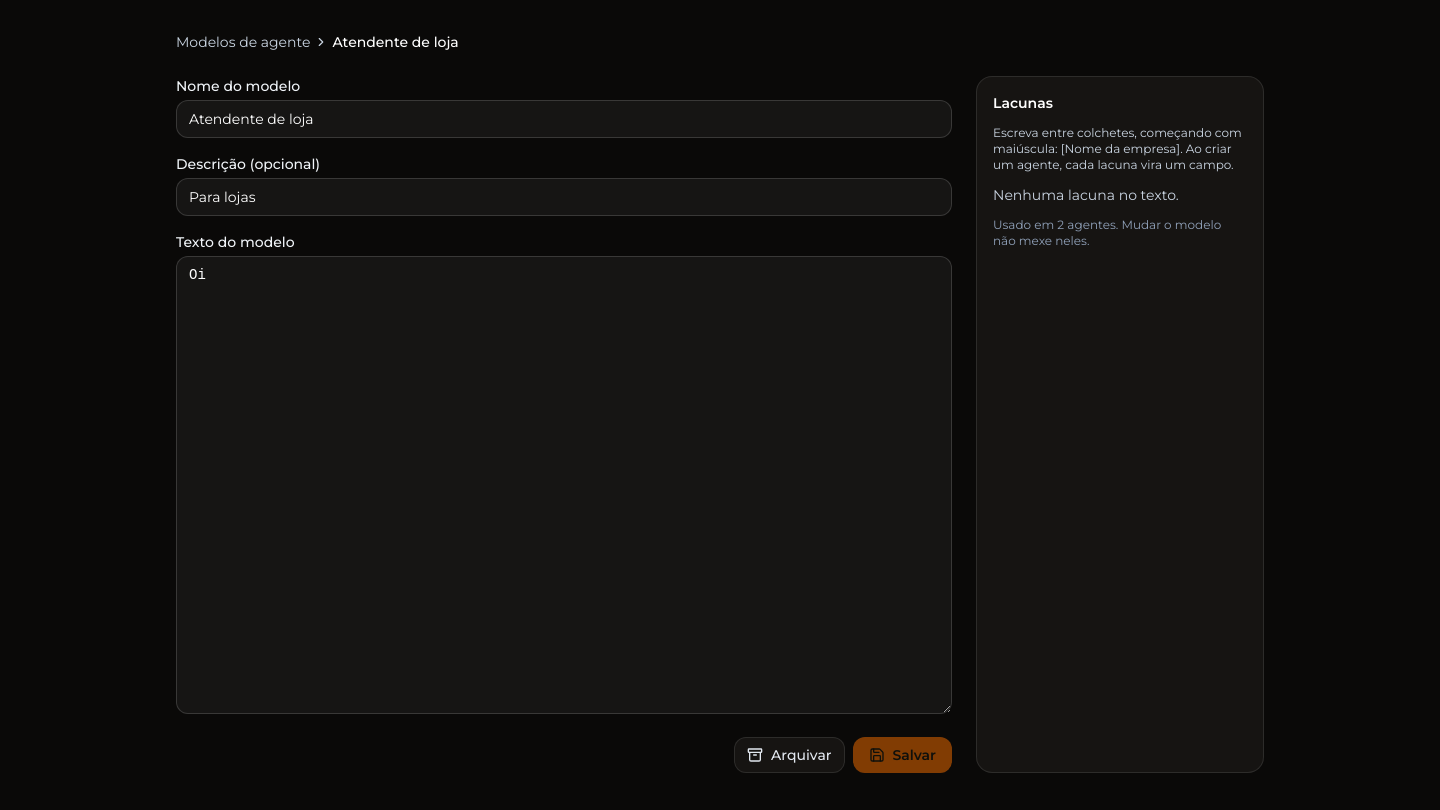
Test: EditorDoModelo › 409 ao salvar e "Descartar o meu": aí sim o texto vira o do servidor
Replace the text in the text box labelled "Texto do modelo" with "O meu". click: (564,485)
box: [176,256,952,714]
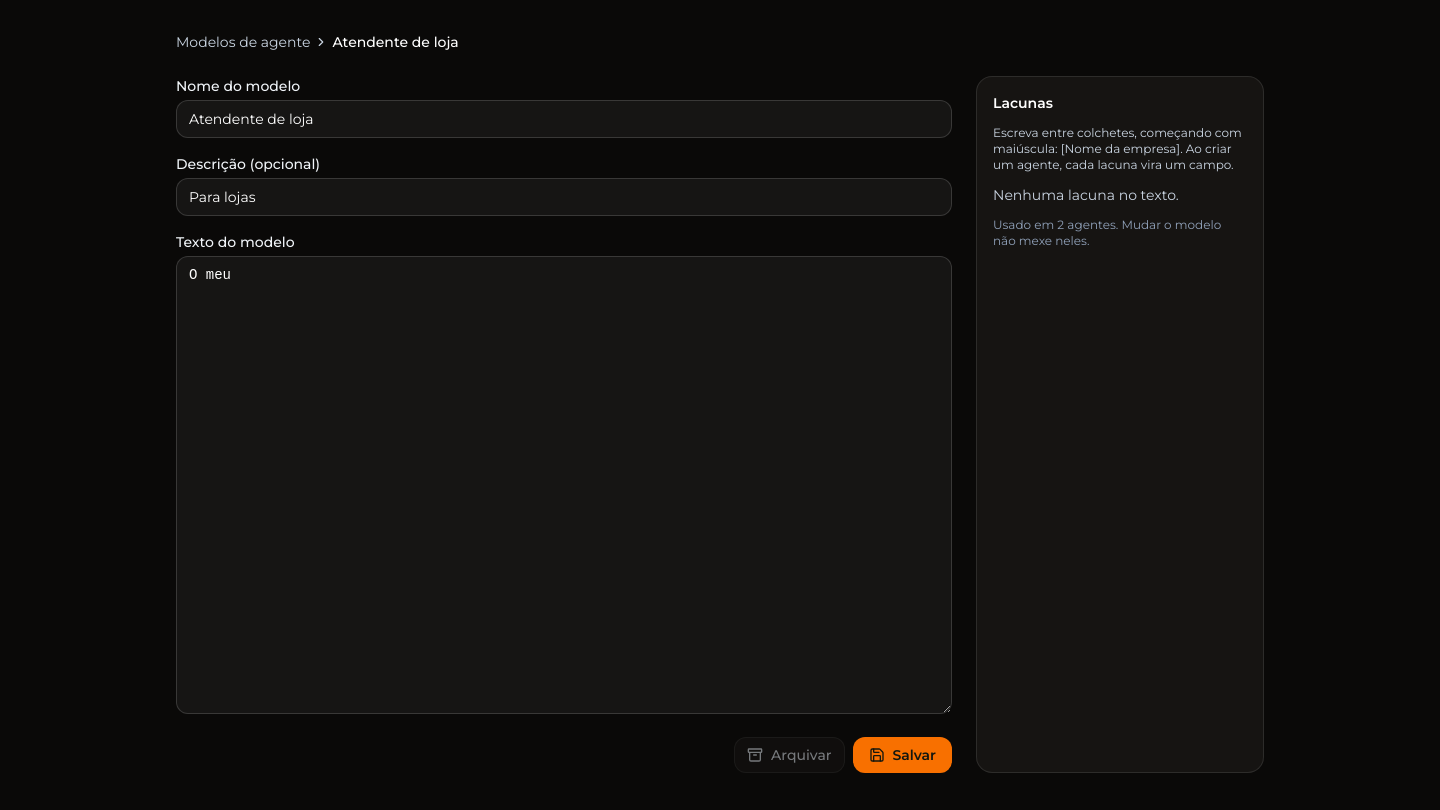
Click the button "Salvar". click: (902,755)
box: [852,737,952,773]
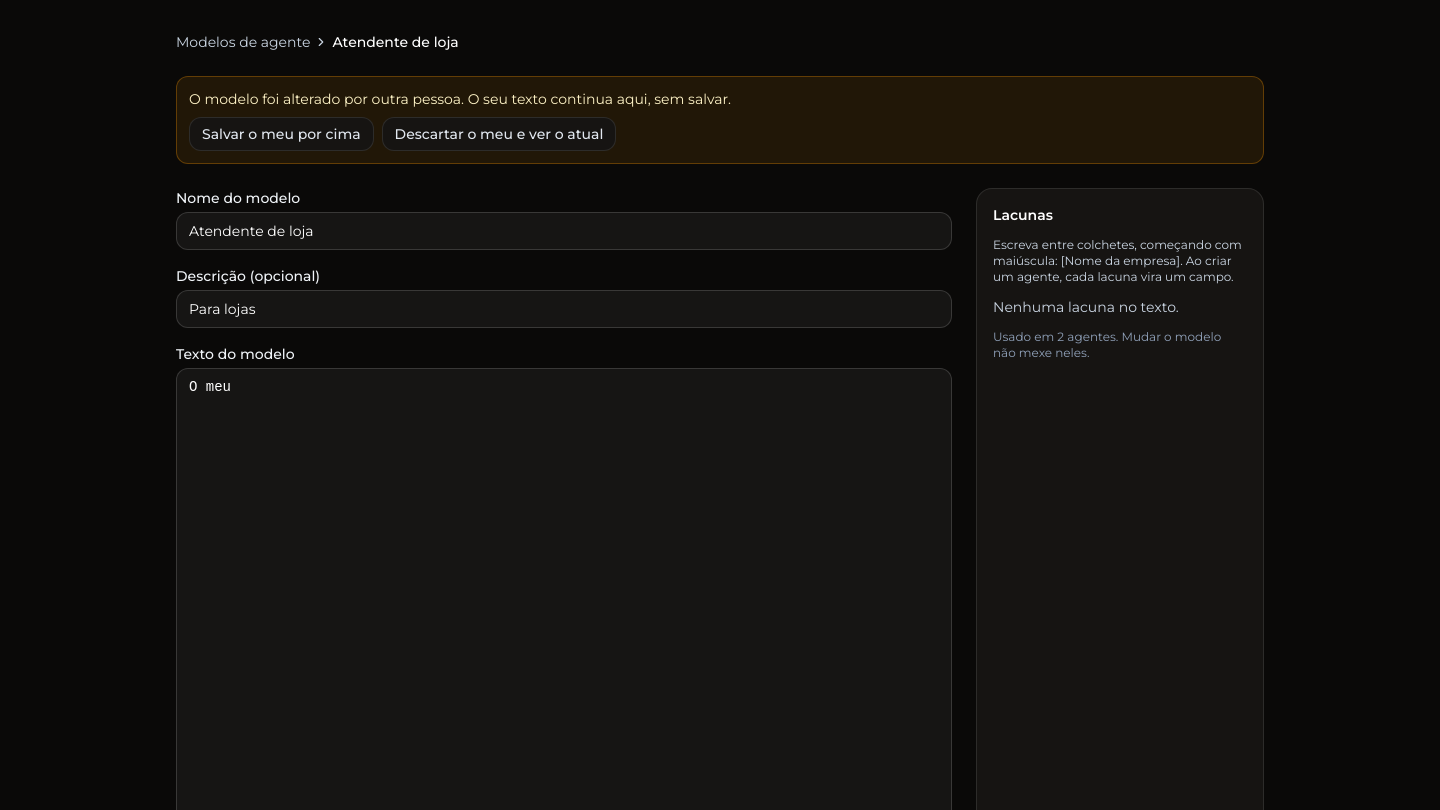
Click the button "Descartar o meu e ver o atual". click: (499,134)
box: [382,117,616,151]
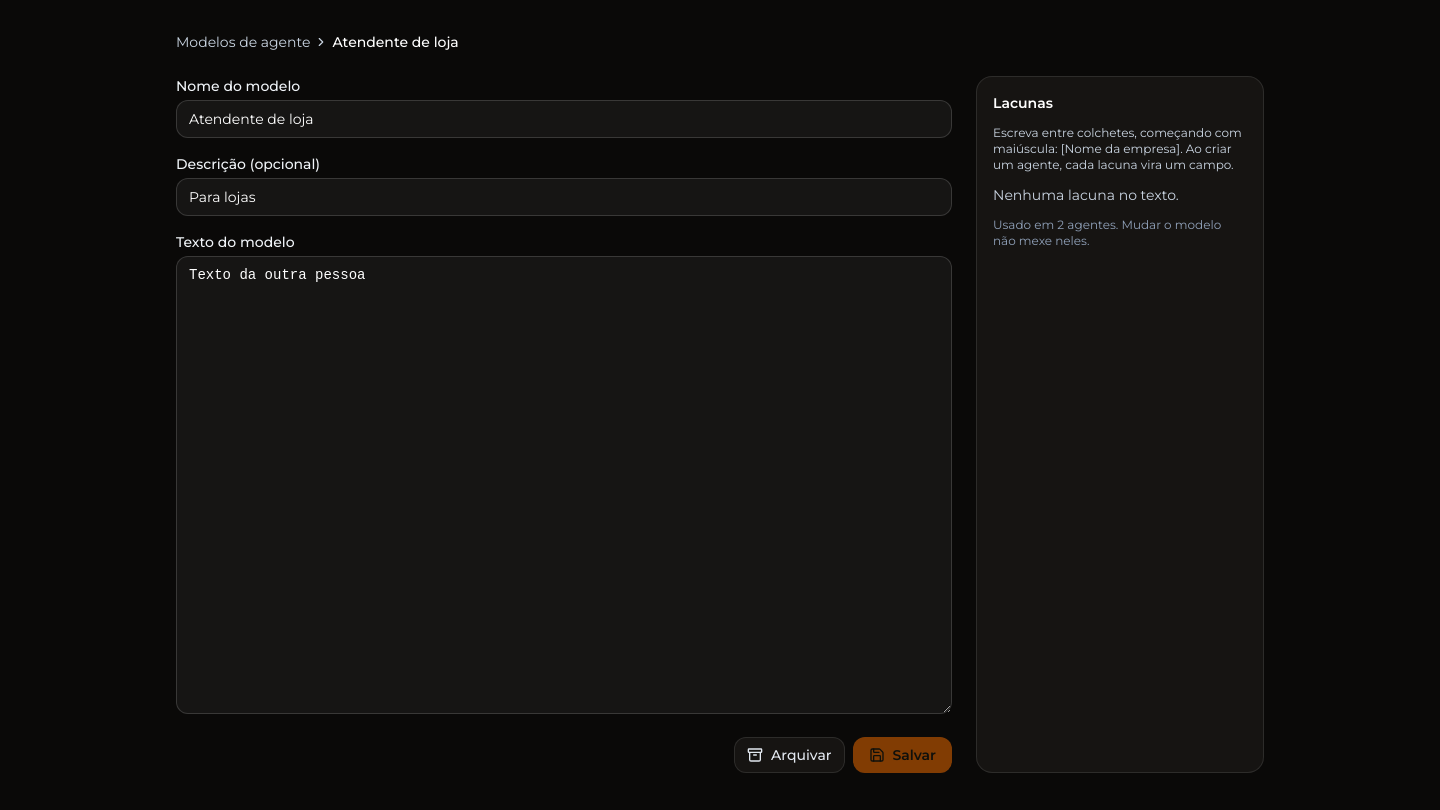
Check: the text box labelled "Texto do modelo" holds "Texto da outra pessoa", box [176,256,952,714]
Check: the text "O seu texto continua aqui" is gone
